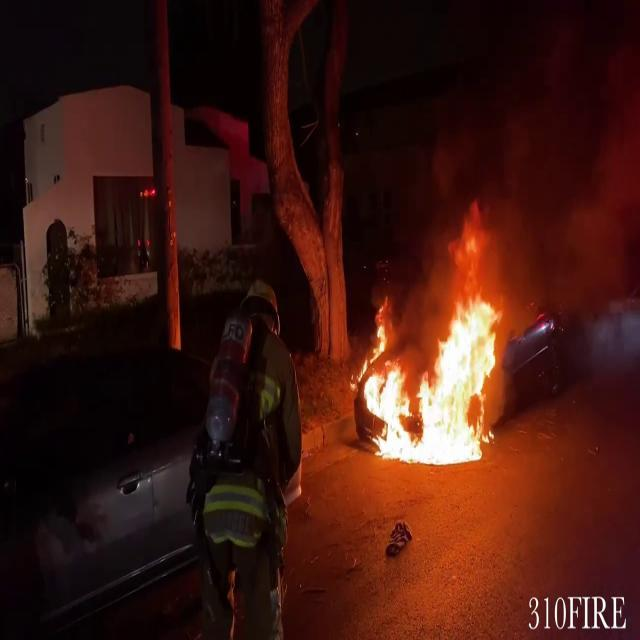Fire: (356, 234, 514, 466)
Smoke: (430, 41, 640, 282)
